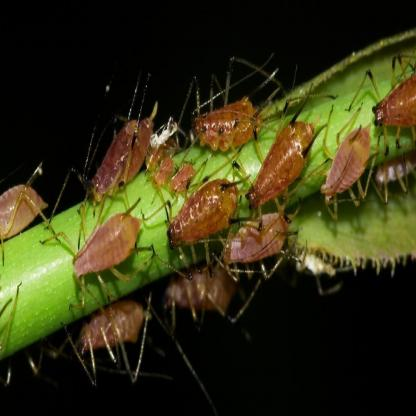aphid: (52, 198, 151, 286), (67, 284, 157, 380), (312, 99, 377, 229), (160, 260, 269, 337), (246, 107, 322, 216), (78, 82, 148, 185), (189, 66, 267, 158), (359, 45, 416, 162), (166, 176, 244, 246), (217, 204, 296, 267), (0, 155, 49, 240), (368, 141, 416, 210), (164, 155, 200, 198), (149, 130, 175, 186)
